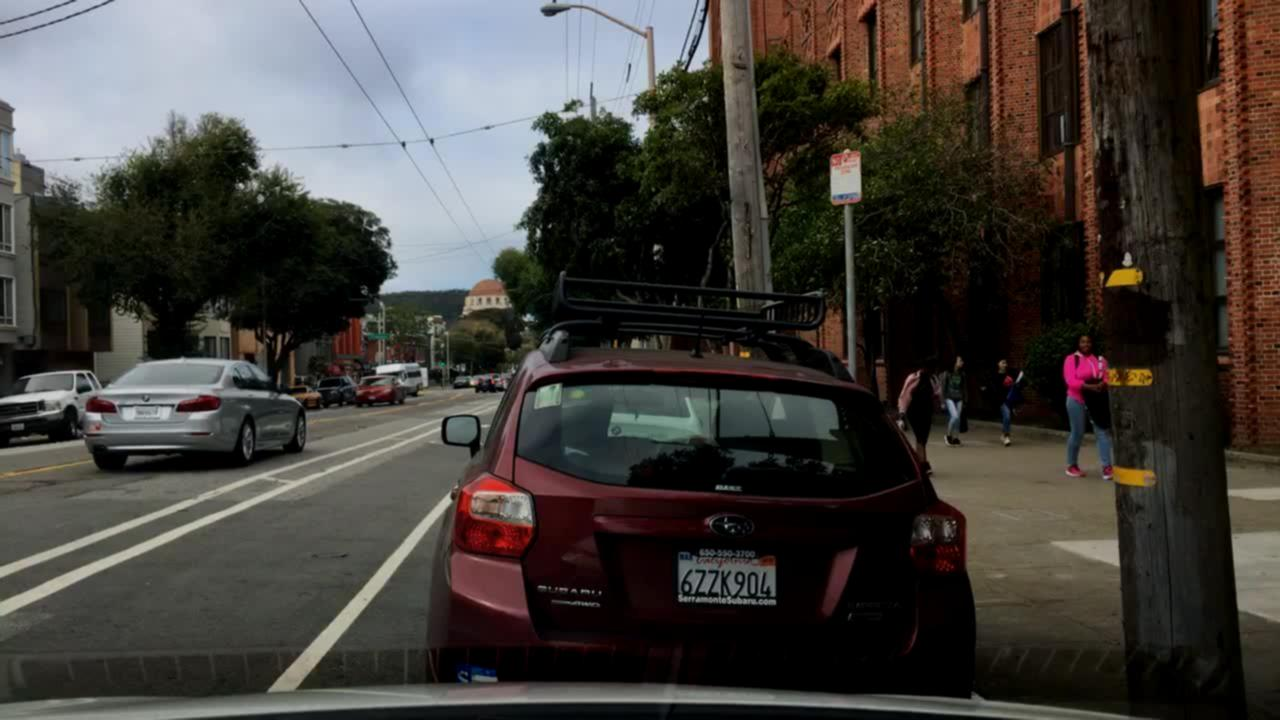subaru: (702, 504, 764, 547)
